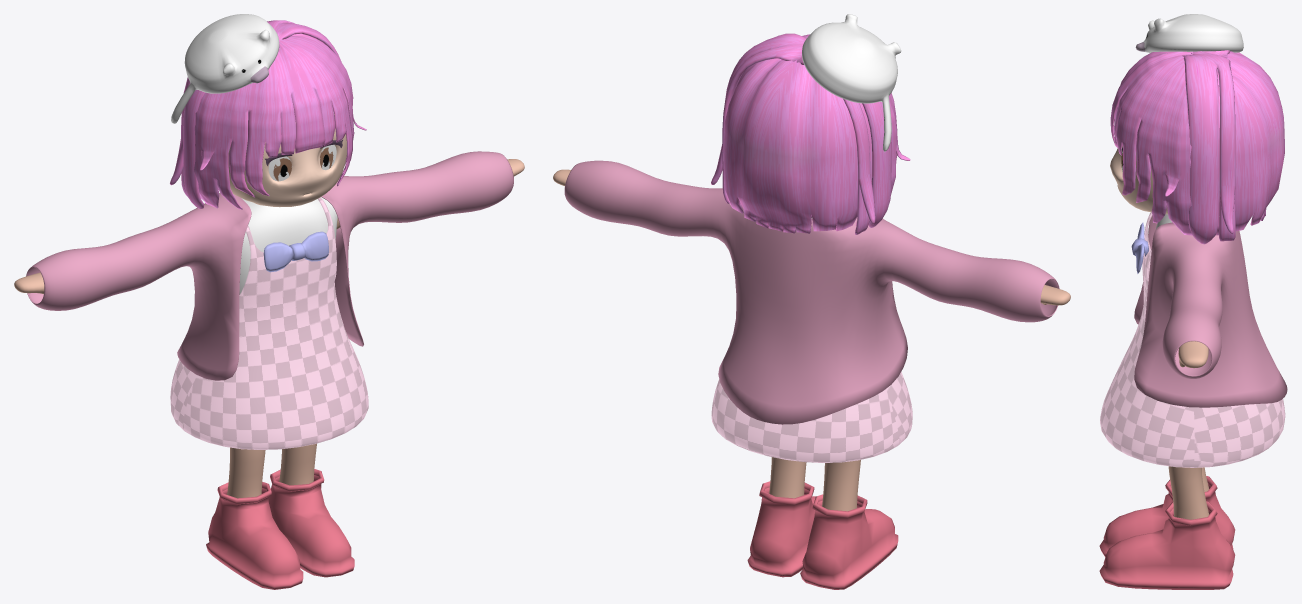
File: CGPlayer.glb
The picture shows the model from 3 angles, left to right: view 1: azimuth 30°, elevation 25°; view 2: azimuth 150°, elevation 25°; view 3: azimuth 270°, elevation 25°; orthographic projection.
Visible parts, largest first — view 1: outer2, outer, hair, shoes, CatHat, face, body, inner, hair.002, ribbon; view 2: outer2, hair.001, shoes, outer, CatHat, hair.002, body; view 3: outer2, outer, hair, shoes, hair.002, hair.001, CatHat, body, face, ribbon.
Part boxes in pixels (x1,y1,x2,y2): outer2: (26,151,513,380); outer: (170,197,368,449); hair: (193,33,366,209); shoes: (206,469,354,589); CatHat: (171,14,279,123); face: (228,114,346,207); body: (14,159,524,498); inner: (239,197,337,294); hair.002: (170,20,341,208); ribbon: (263,231,328,272); outer2: (564,160,1059,424); hair.001: (723,58,872,233); shoes: (747,481,898,589); outer: (711,372,912,462); CatHat: (802,14,901,151); hair.002: (711,33,891,234); body: (553,169,1070,511); outer2: (1134,215,1287,407); outer: (1100,212,1285,467); hair: (1110,51,1193,235); shoes: (1099,476,1235,589); hair.002: (1182,50,1235,244); hair.001: (1191,51,1284,235); CatHat: (1135,14,1243,52); body: (1168,341,1209,519); face: (1110,146,1167,214); ribbon: (1131,222,1148,273).
Bounding box in the file's own units: 1.37 × 1.4 × 0.4425.
Materials: 11 (5 with a texture image).
